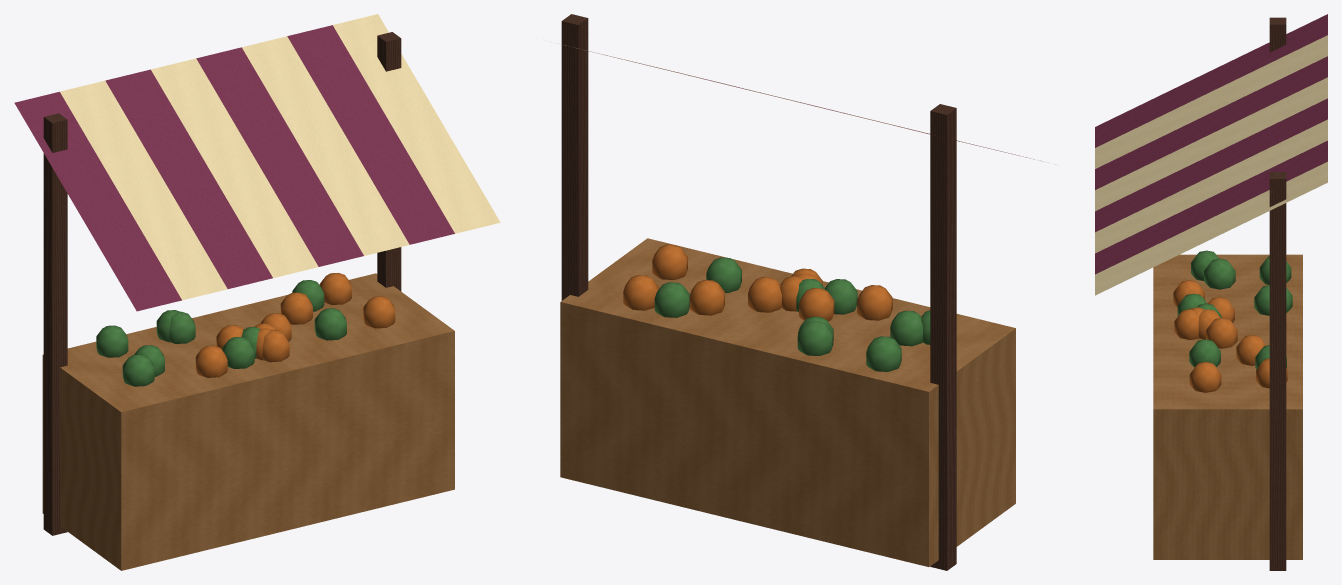
The model's file is market.glb.
The picture shows the model from 3 angles, left to right: view 1: azimuth 30°, elevation 25°; view 2: azimuth 150°, elevation 25°; view 3: azimuth 270°, elevation 25°; orthographic projection. The views are drawn at different scales.
Parts seen in each view (by area): view 1: market; view 2: market; view 3: market.
Boxes of the visible parts, bbox=[...] form: market: bbox=[14, 14, 500, 570]; market: bbox=[550, 14, 1041, 570]; market: bbox=[1095, 14, 1327, 570].
Bounding box in the file's own units: 2.4 × 2.6 × 1.4.
Materials: 6 (6 with a texture image).
